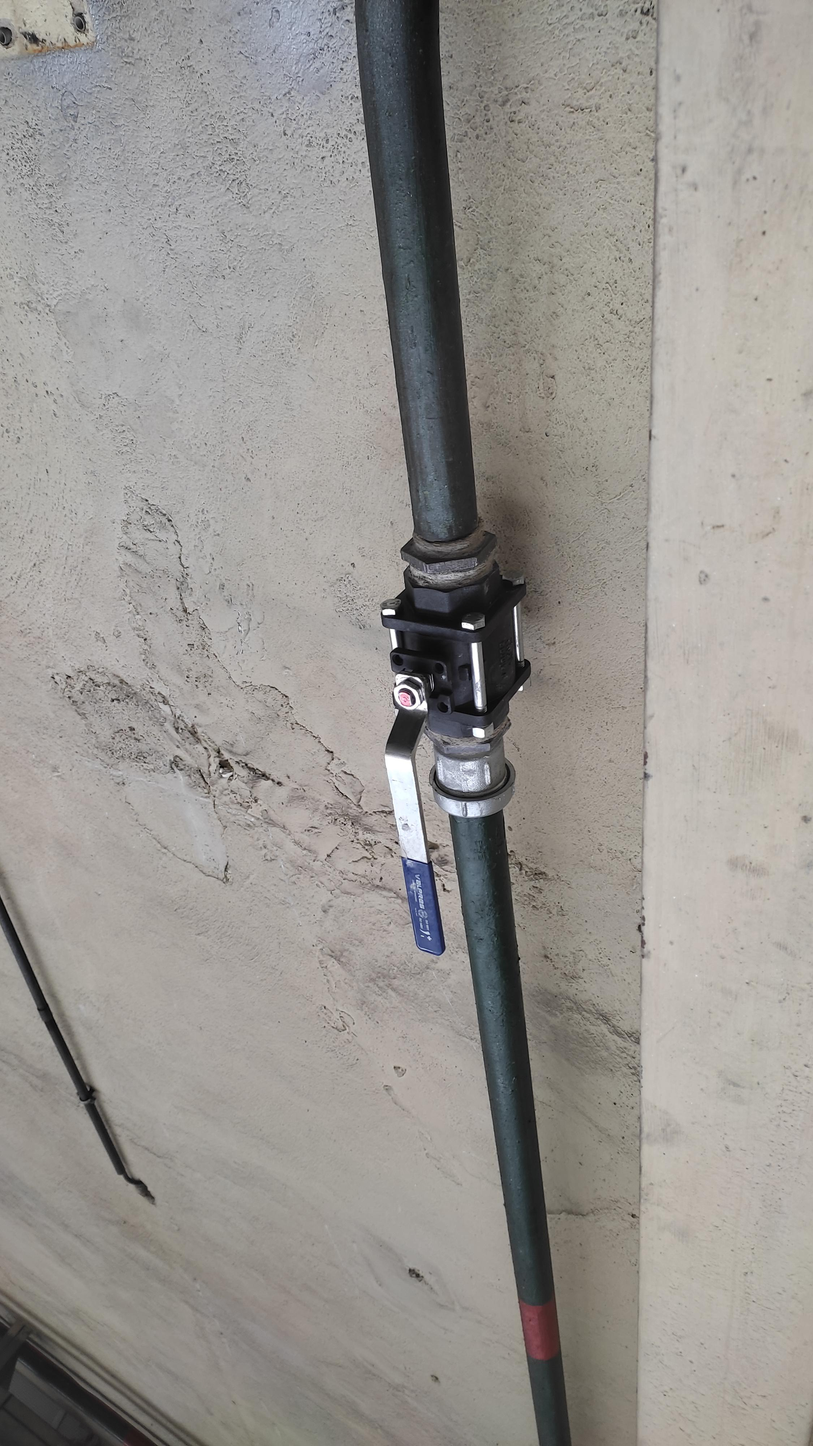opened valve: (378, 568, 534, 956)
